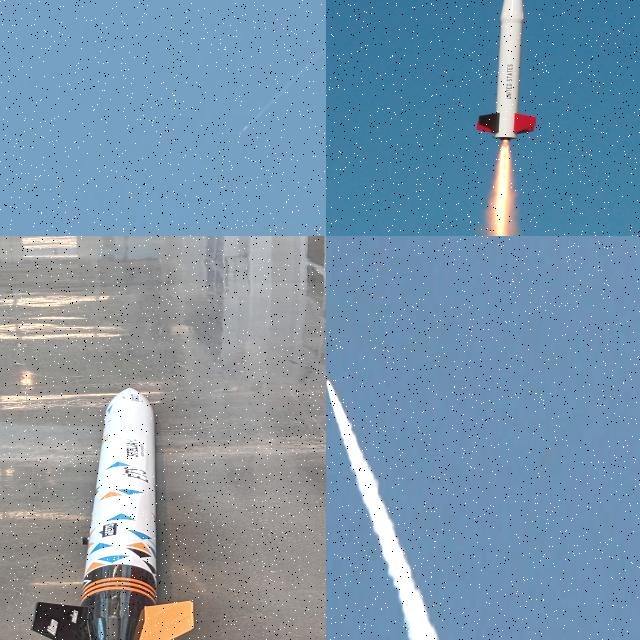Rocket: (30, 387, 195, 640), (475, 0, 536, 141), (238, 124, 249, 136), (326, 371, 328, 382)
